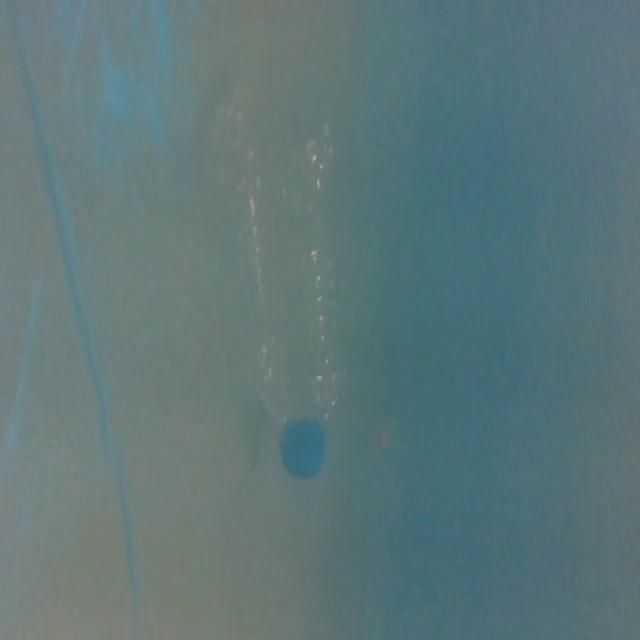plastic bottle: (235, 112, 360, 487)
